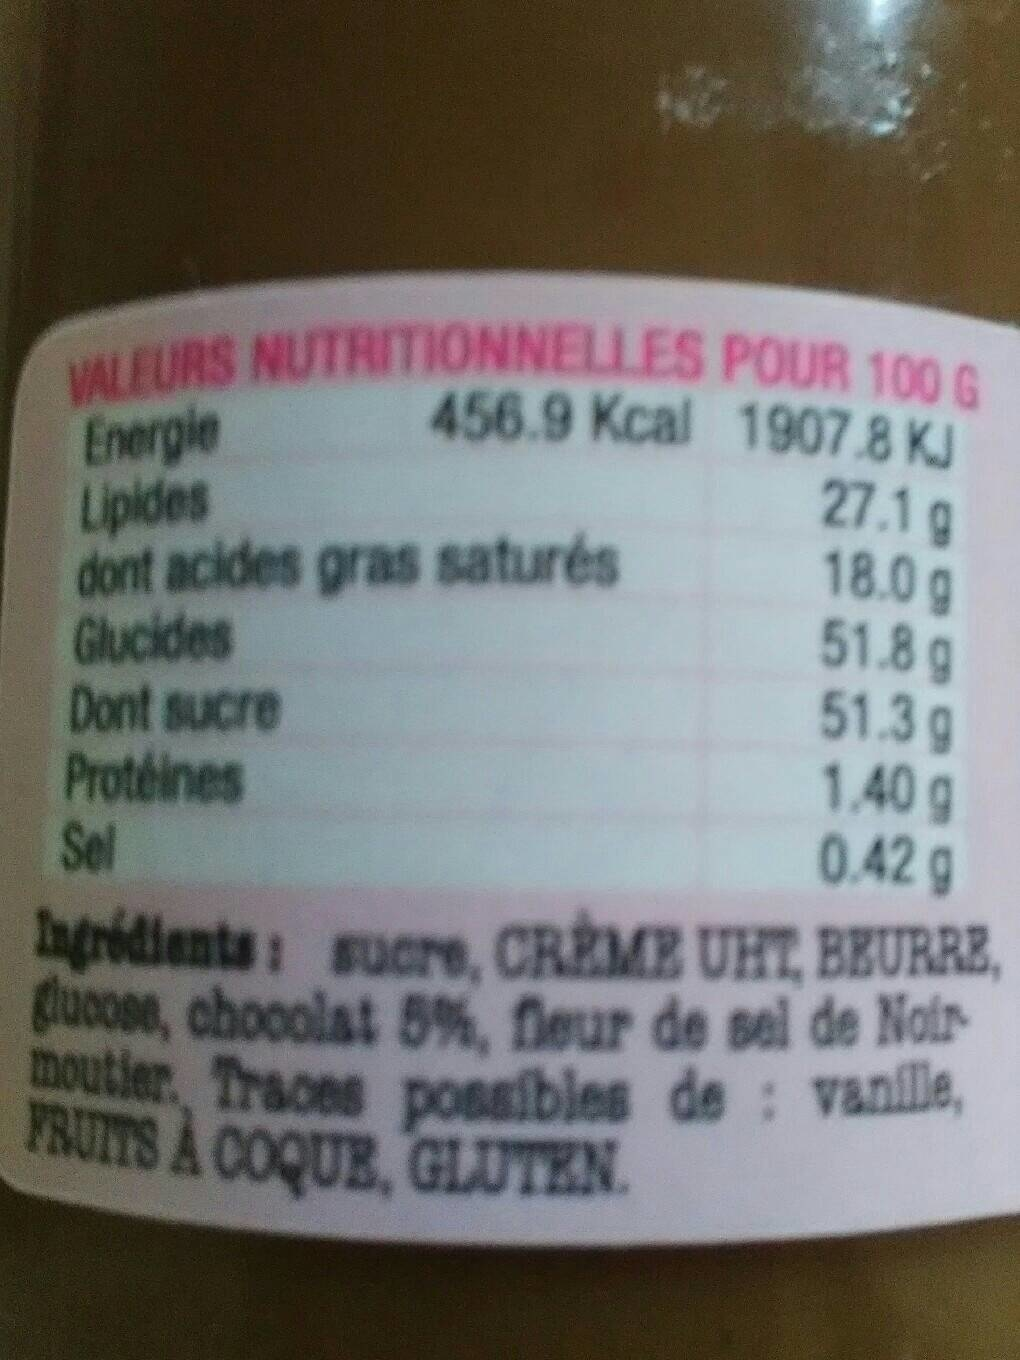column: (62, 401, 692, 872), (737, 405, 954, 890)
table: (54, 388, 971, 891)
